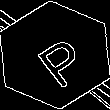P_NW: (22, 23, 88, 87)
